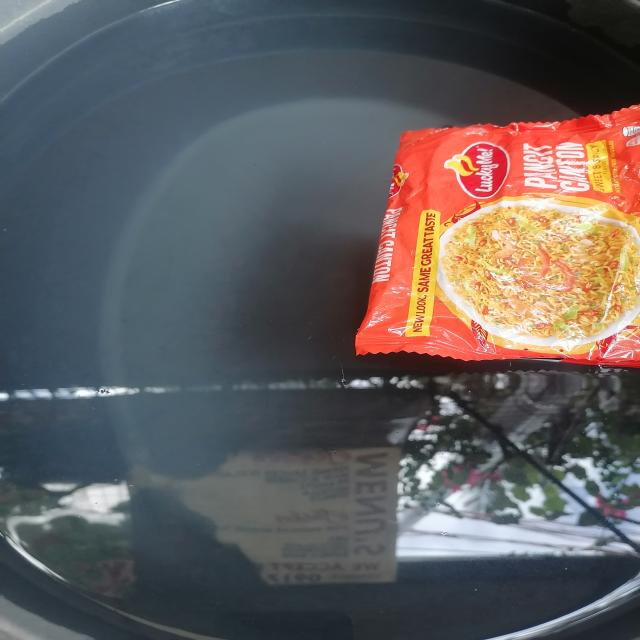Plastic Wrapper: (355, 105, 640, 368)
